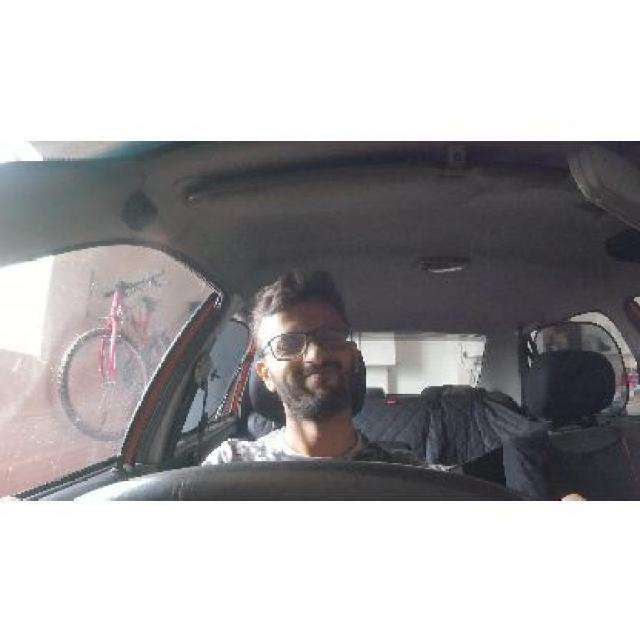drowsy: (246, 270, 365, 422)
